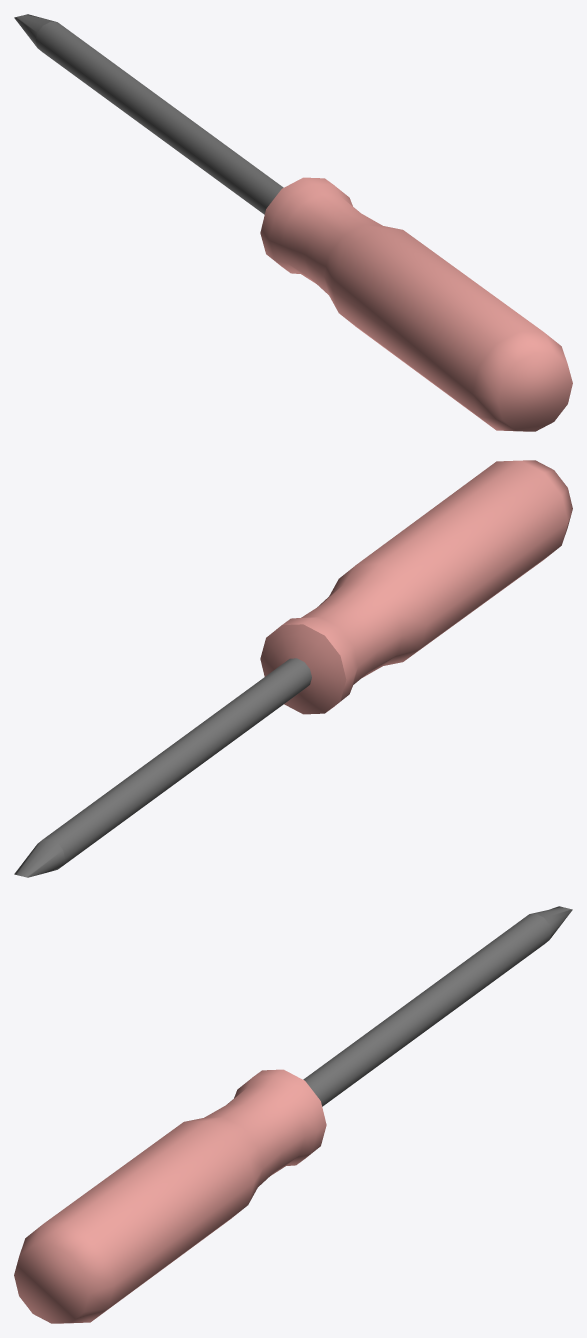
The model's file is Chave_Fenda.fbx.
The picture shows the model from 3 angles, top to bottom: view 1: azimuth 30°, elevation 25°; view 2: azimuth 150°, elevation 25°; view 3: azimuth 330°, elevation 25°; orthographic projection.
Parts seen in each view (by area): view 1: Chave_Fenda; view 2: Chave_Fenda; view 3: Chave_Fenda.
Part boxes in pixels (x1=…): Chave_Fenda: x1=14, y1=14, x2=572, y2=431; Chave_Fenda: x1=14, y1=460, x2=572, y2=877; Chave_Fenda: x1=14, y1=906, x2=572, y2=1323.
Size of the model in its own units: 6.29 by 6.29 by 58.68.
